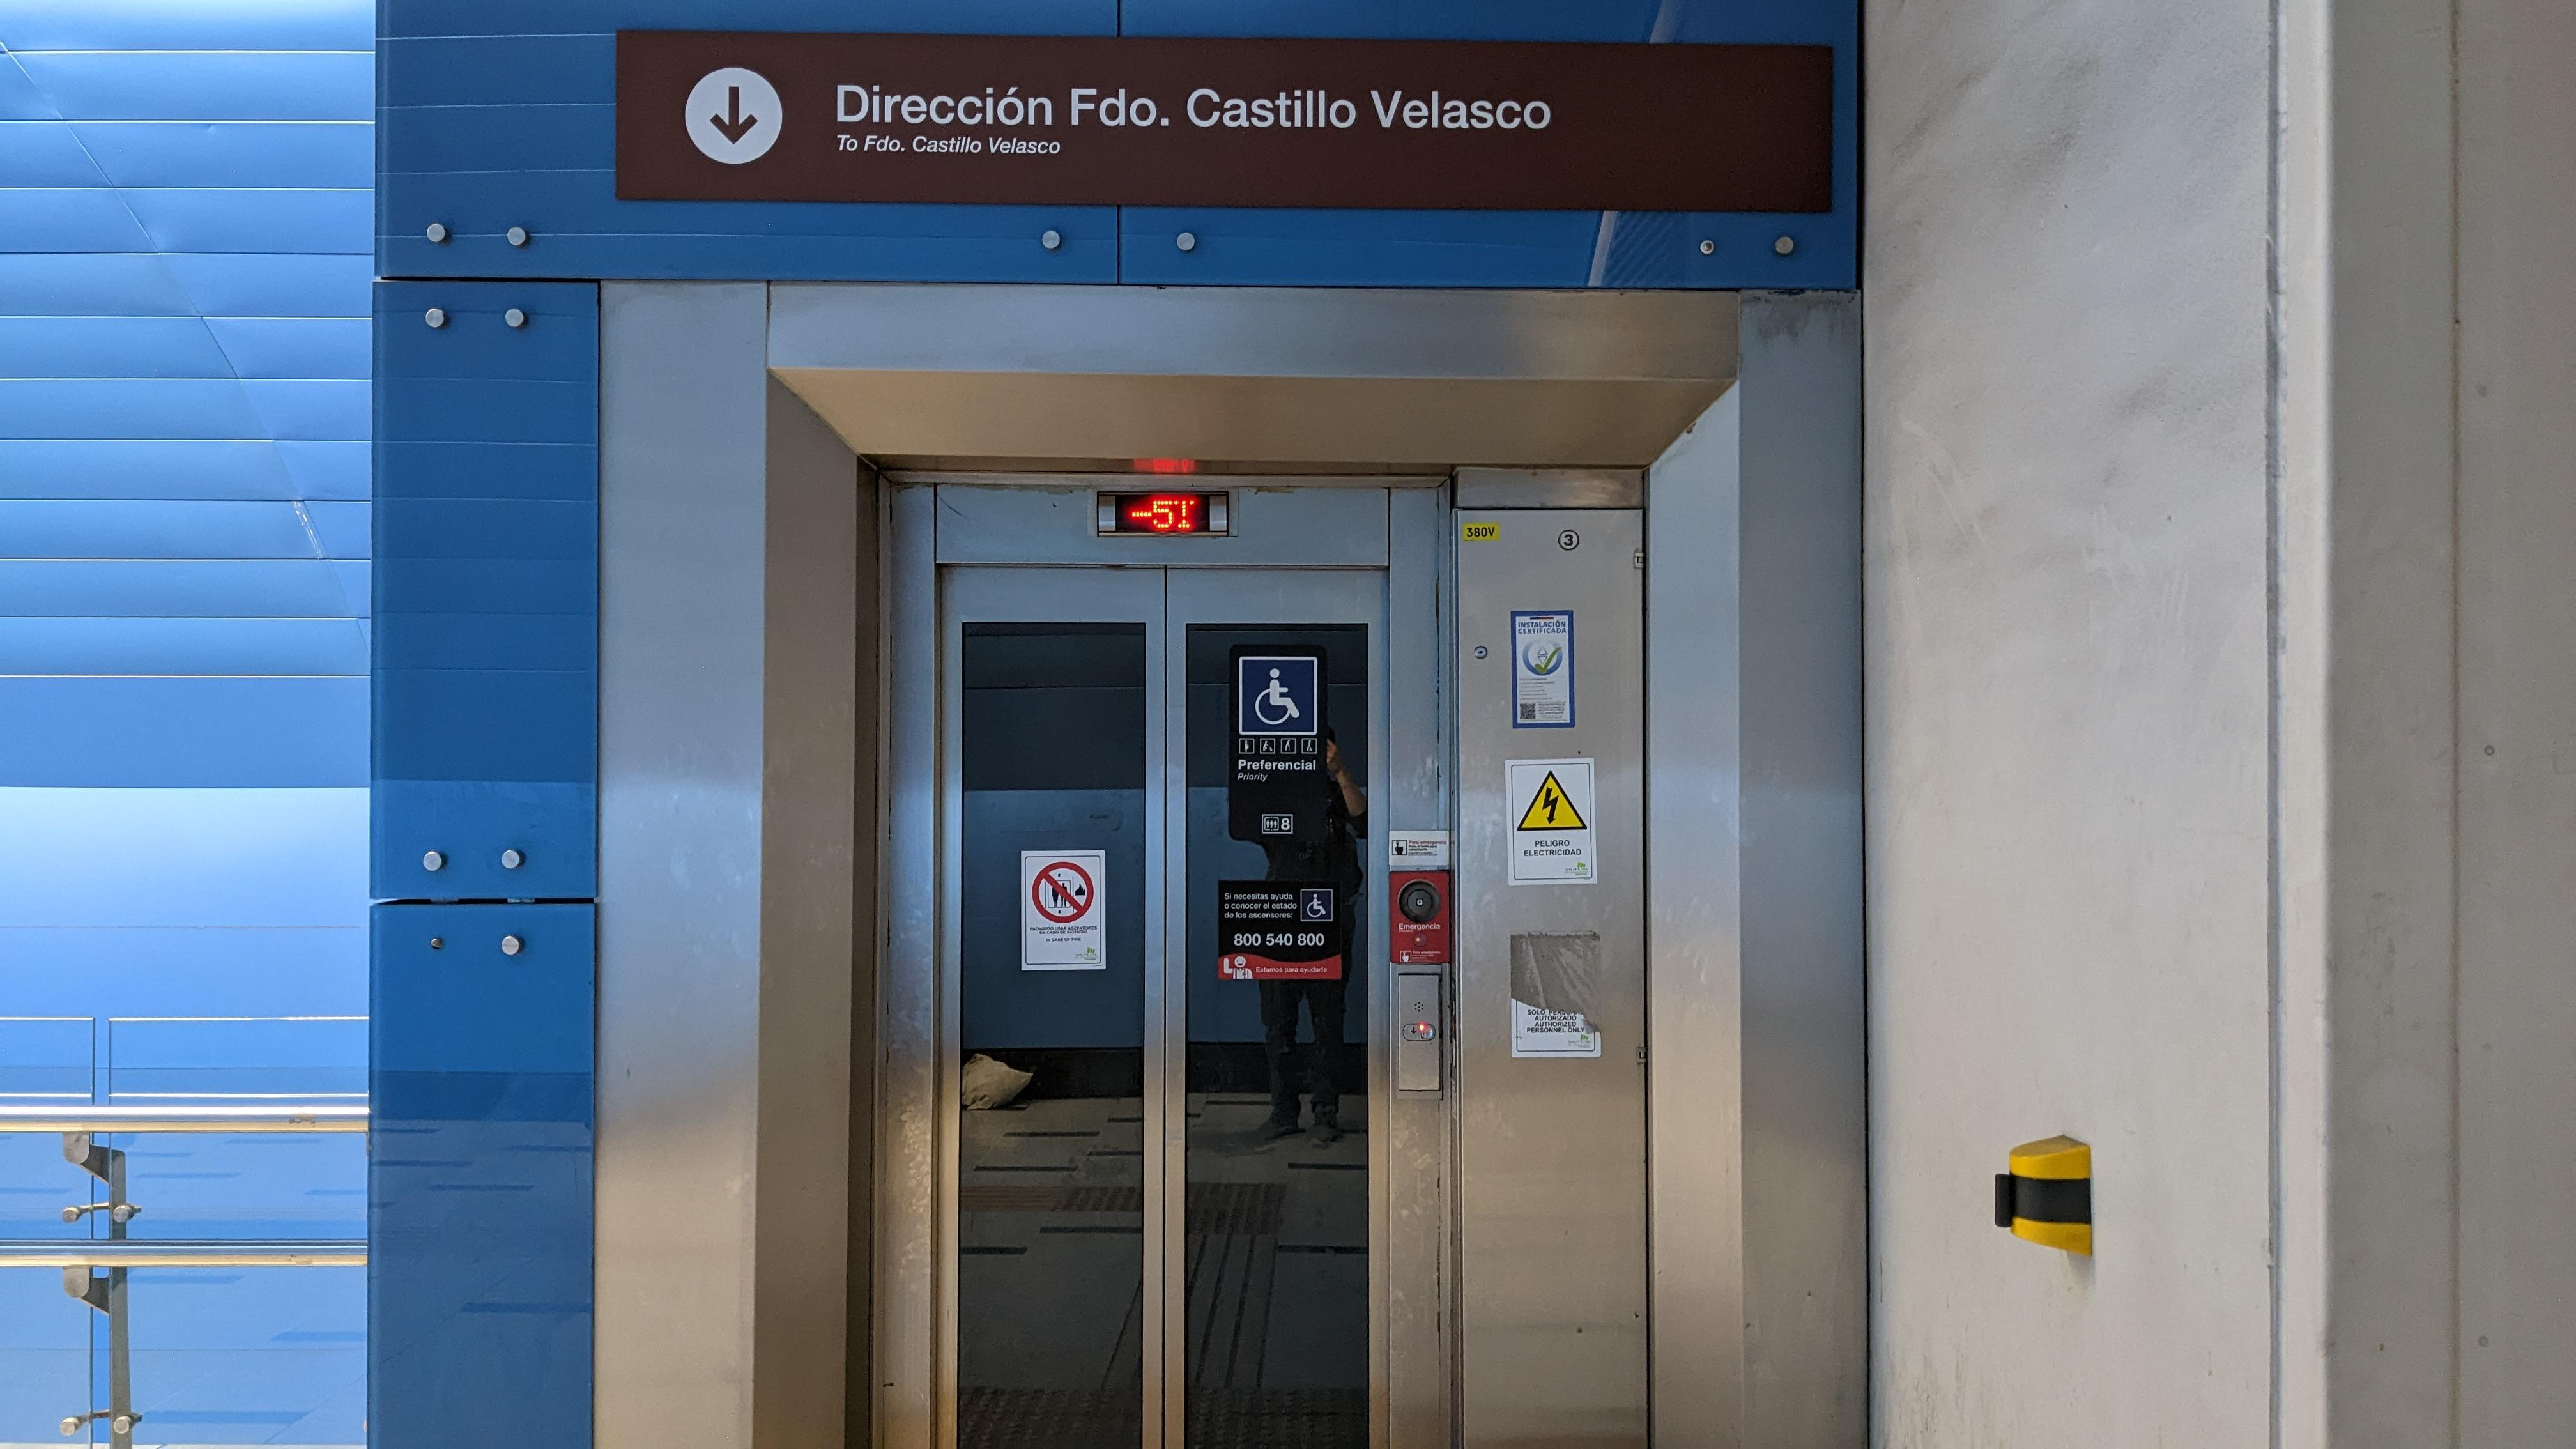danger-electricity: (1516, 768, 1587, 833)
down arrow: (704, 81, 764, 149)
handicapped symbol: (1254, 669, 1304, 727), (1306, 893, 1327, 918)
